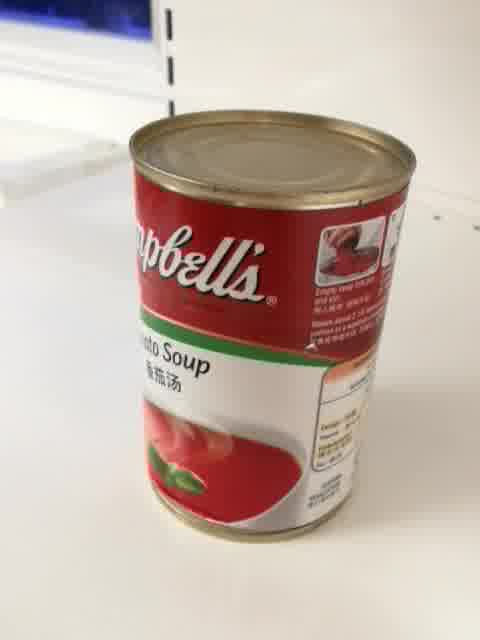tomatosoup: (125, 107, 420, 546)
